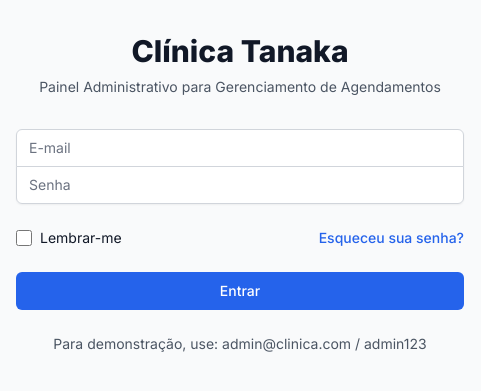
Test: LoginPage › exibe erro para credenciais inválidas
In the field with placeholder "E-mail": (240, 148) [16,128,464,166], type "usuario@invalido.com"
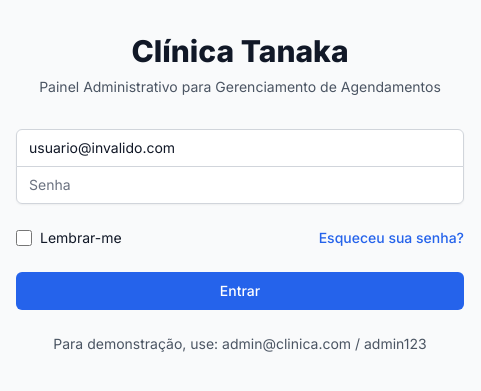
In the password field with placeholder "Senha": (240, 184) [16,166,464,204], type "senhaerrada"
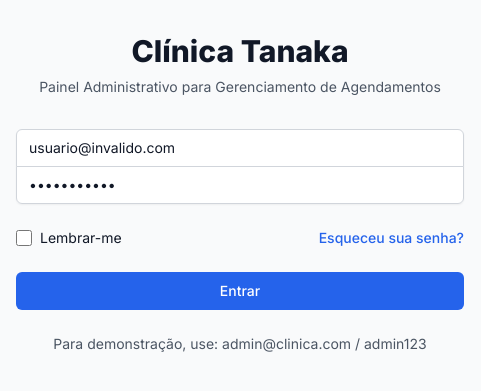
Click the button "Entrar": (240, 290) [16,272,464,310]
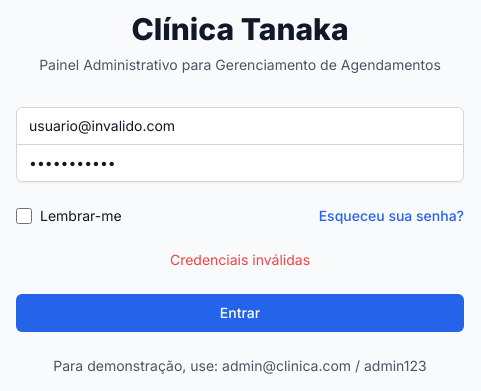
Expected: the text "Credenciais inválidas" is shown, [170,250,310,268]
